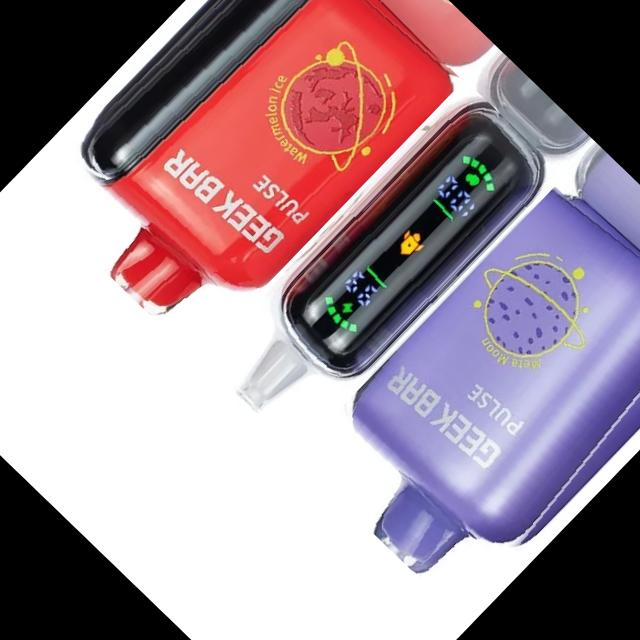Hazard: (22, 0, 464, 357), (293, 175, 640, 617), (201, 83, 560, 450)
